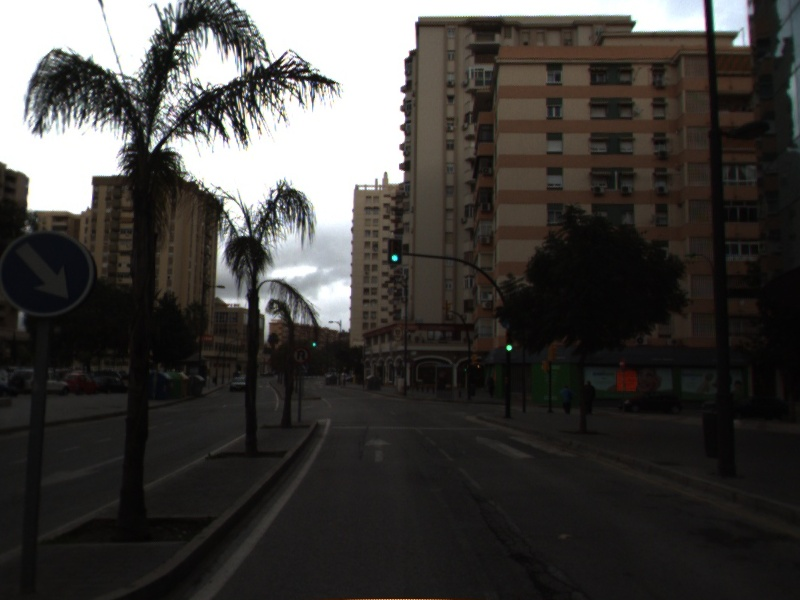STRAIGHT: (362, 435, 394, 465)
